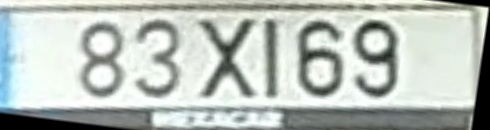3: (134, 16, 184, 101)
6: (293, 16, 347, 102)
8: (76, 19, 128, 102)
9: (348, 15, 404, 104)
I: (261, 17, 282, 103)
X: (194, 16, 259, 103)
